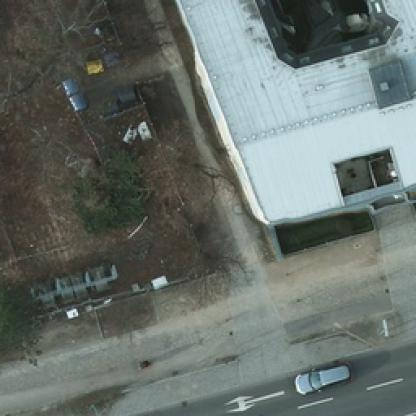car: (294, 358, 359, 396)
